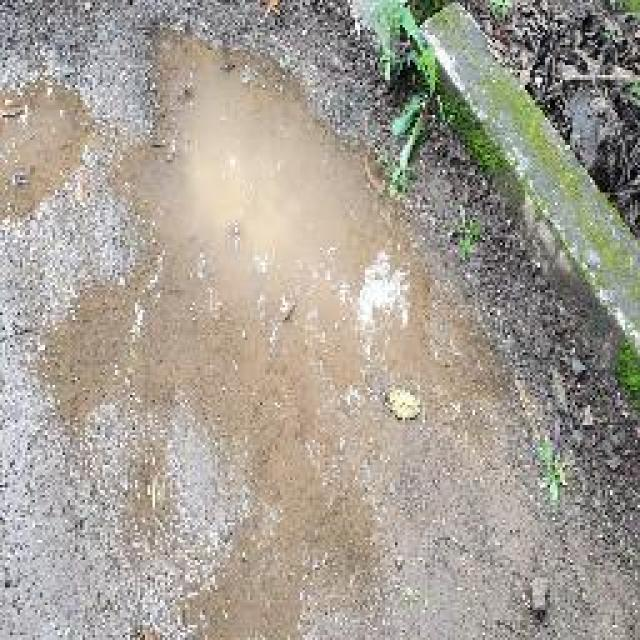puddle: (138, 30, 473, 413)
